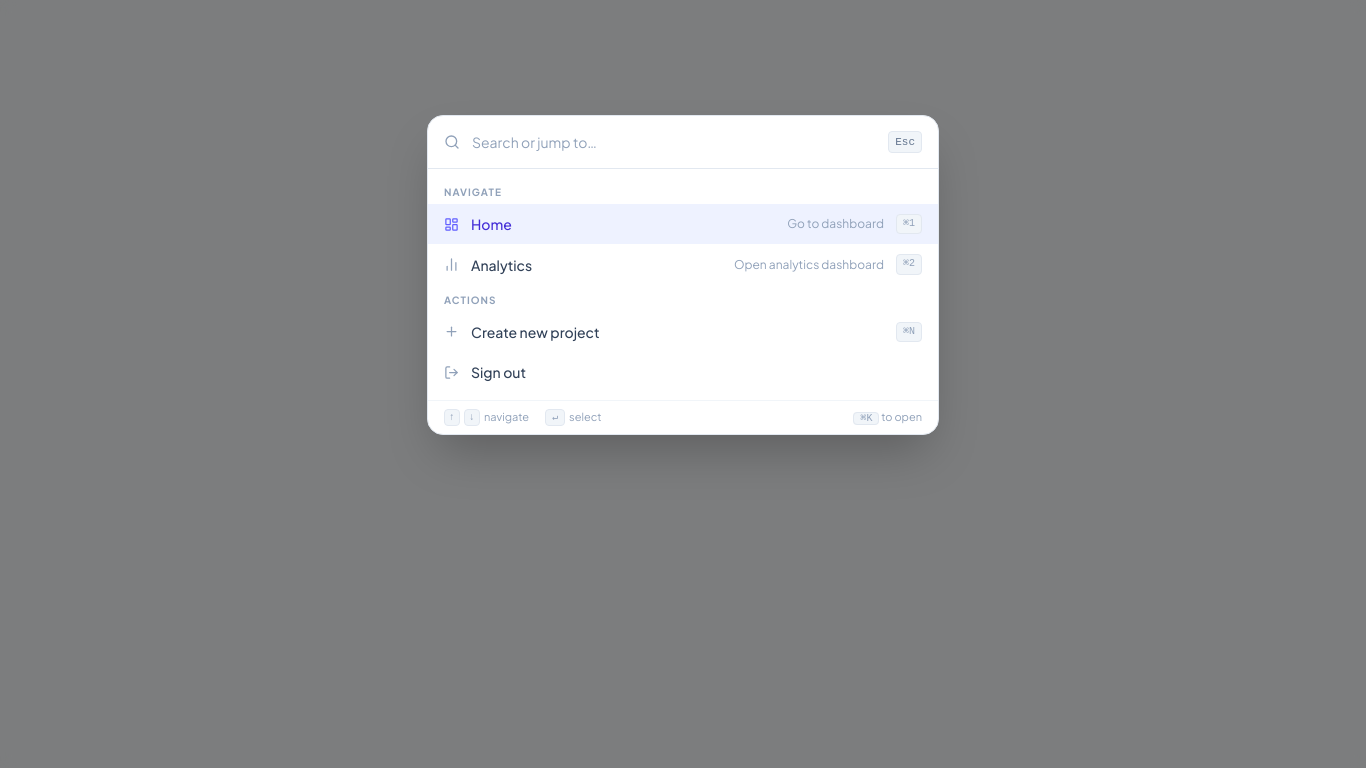
Test: CommandPalette › filters items by query — non-matching items disappear
expect the text "Go to dashboard" is shown: met, box [787,216,884,232]
In the field with placeholder "Search or jump to…": (674, 142) [472,116,876,168], type "analytics"
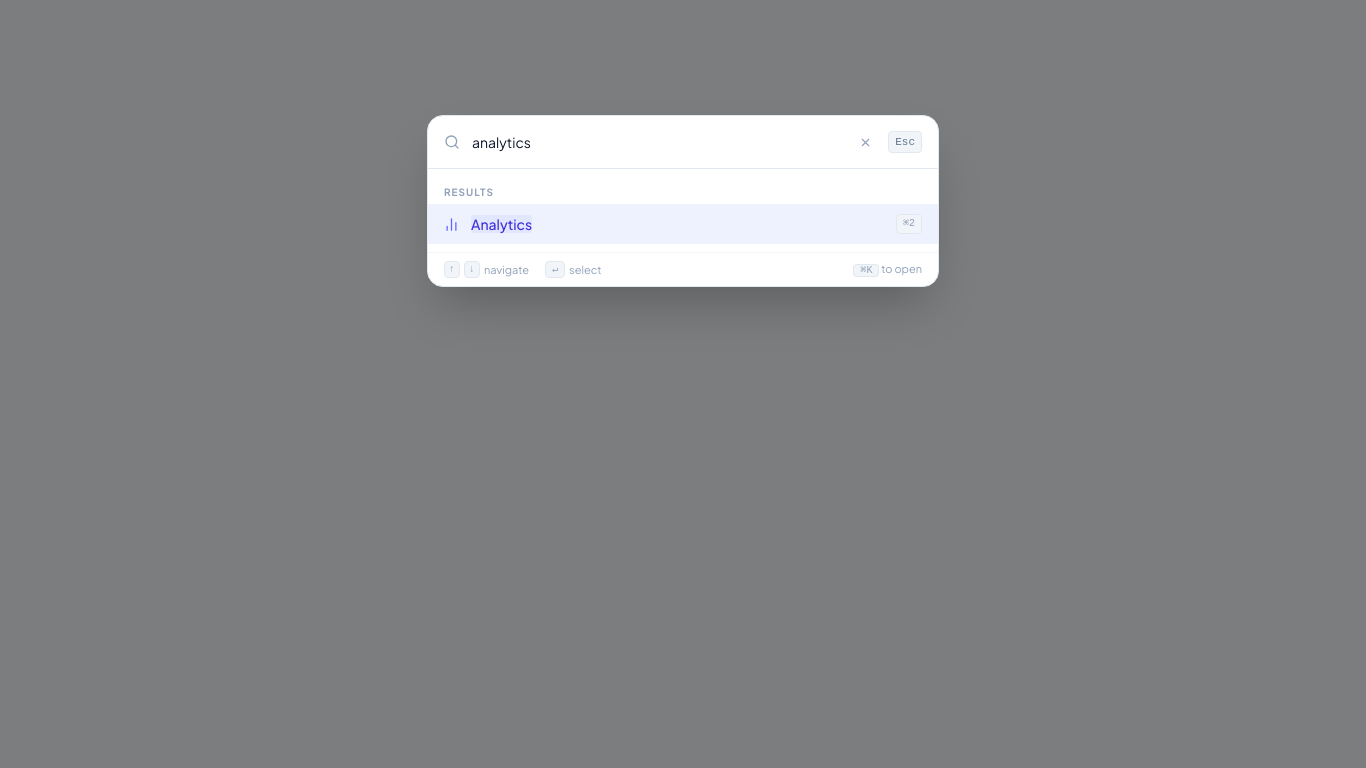
expect the button "Go to dashboard" is gone: met
